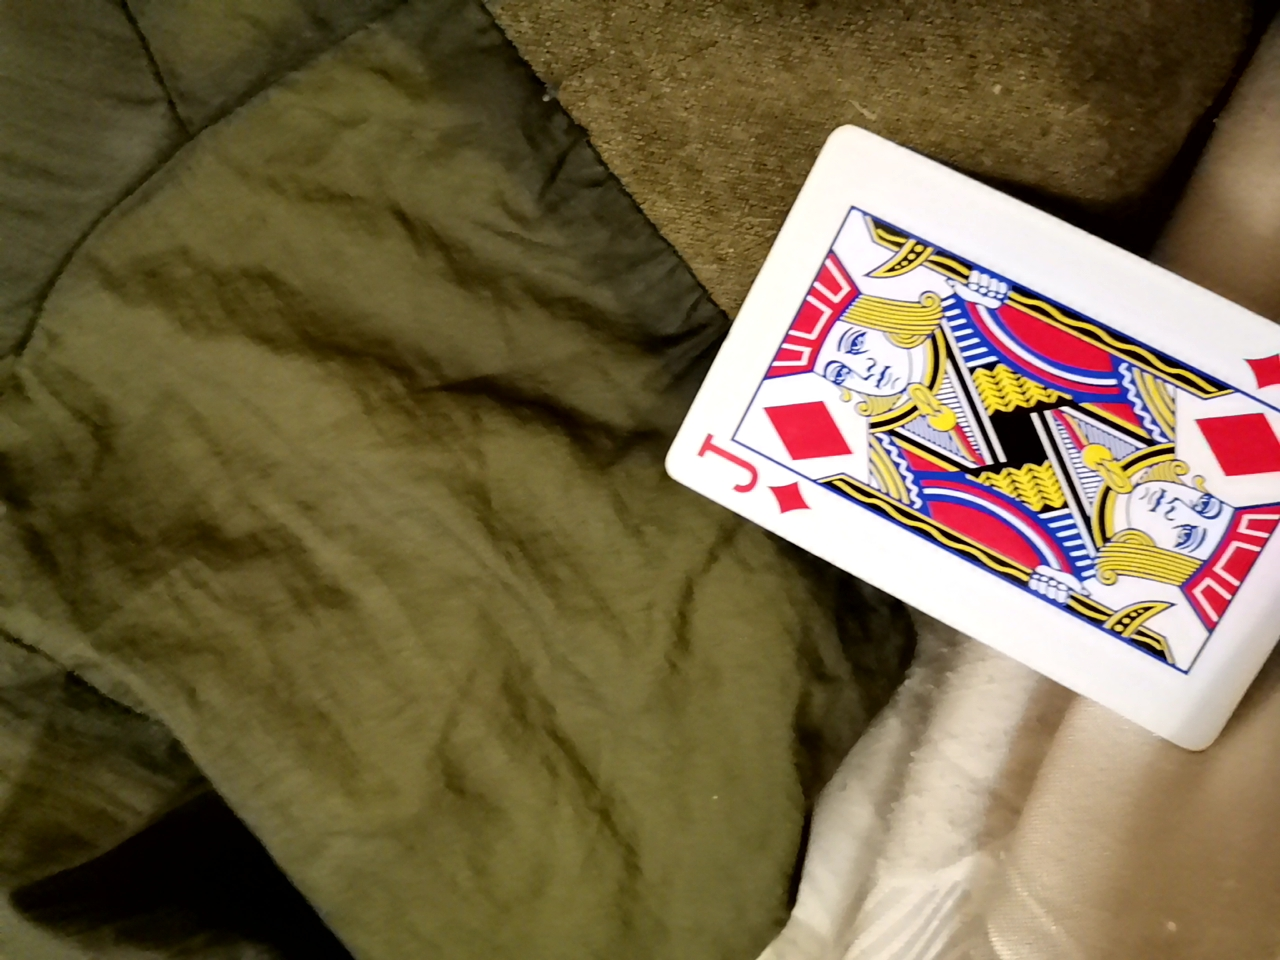fk j: (615, 129, 1265, 743)
